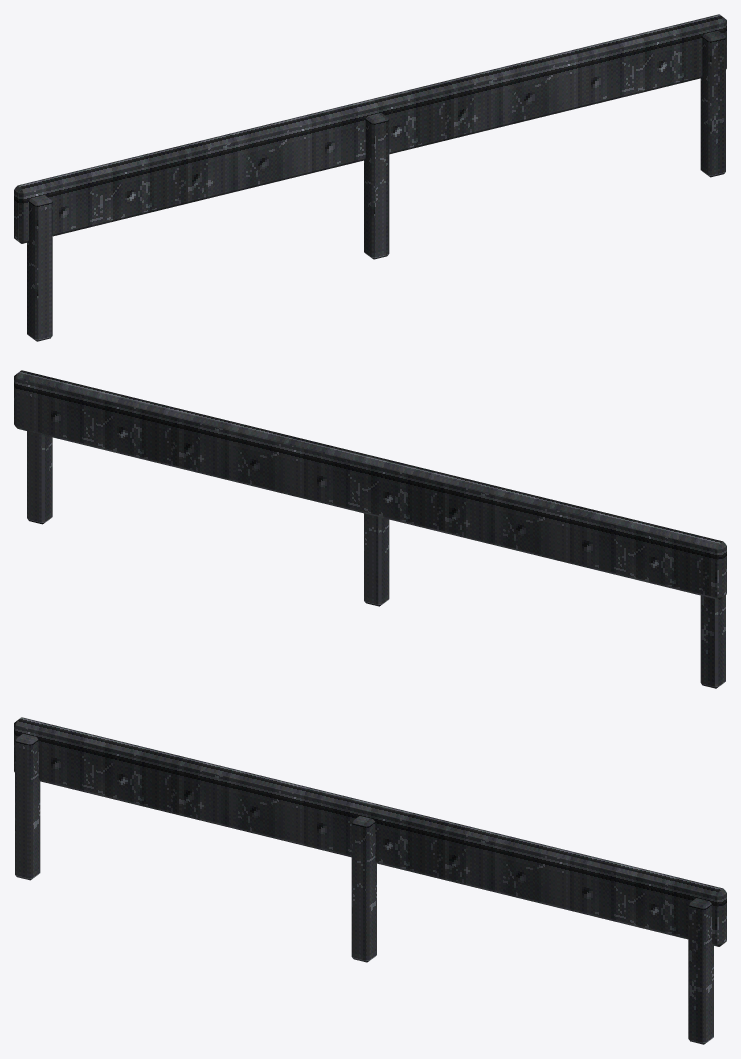
The model's file is ext_guardrail.glb.
3 views of the same model, one above another, from view 1: azimuth 30°, elevation 25°; view 2: azimuth 150°, elevation 25°; view 3: azimuth 330°, elevation 25° (orthographic).
Parts seen in each view (by area): view 1: ext_guardrail_mesh; view 2: ext_guardrail_mesh; view 3: ext_guardrail_mesh.
Part boxes in pixels (bbox=[...]): ext_guardrail_mesh: bbox=[14, 14, 726, 341]; ext_guardrail_mesh: bbox=[14, 370, 726, 688]; ext_guardrail_mesh: bbox=[14, 717, 726, 1044].
Size of what is drawn, in the model's own units: 4 by 0.805 by 0.15.
1 material, 1 textured.
